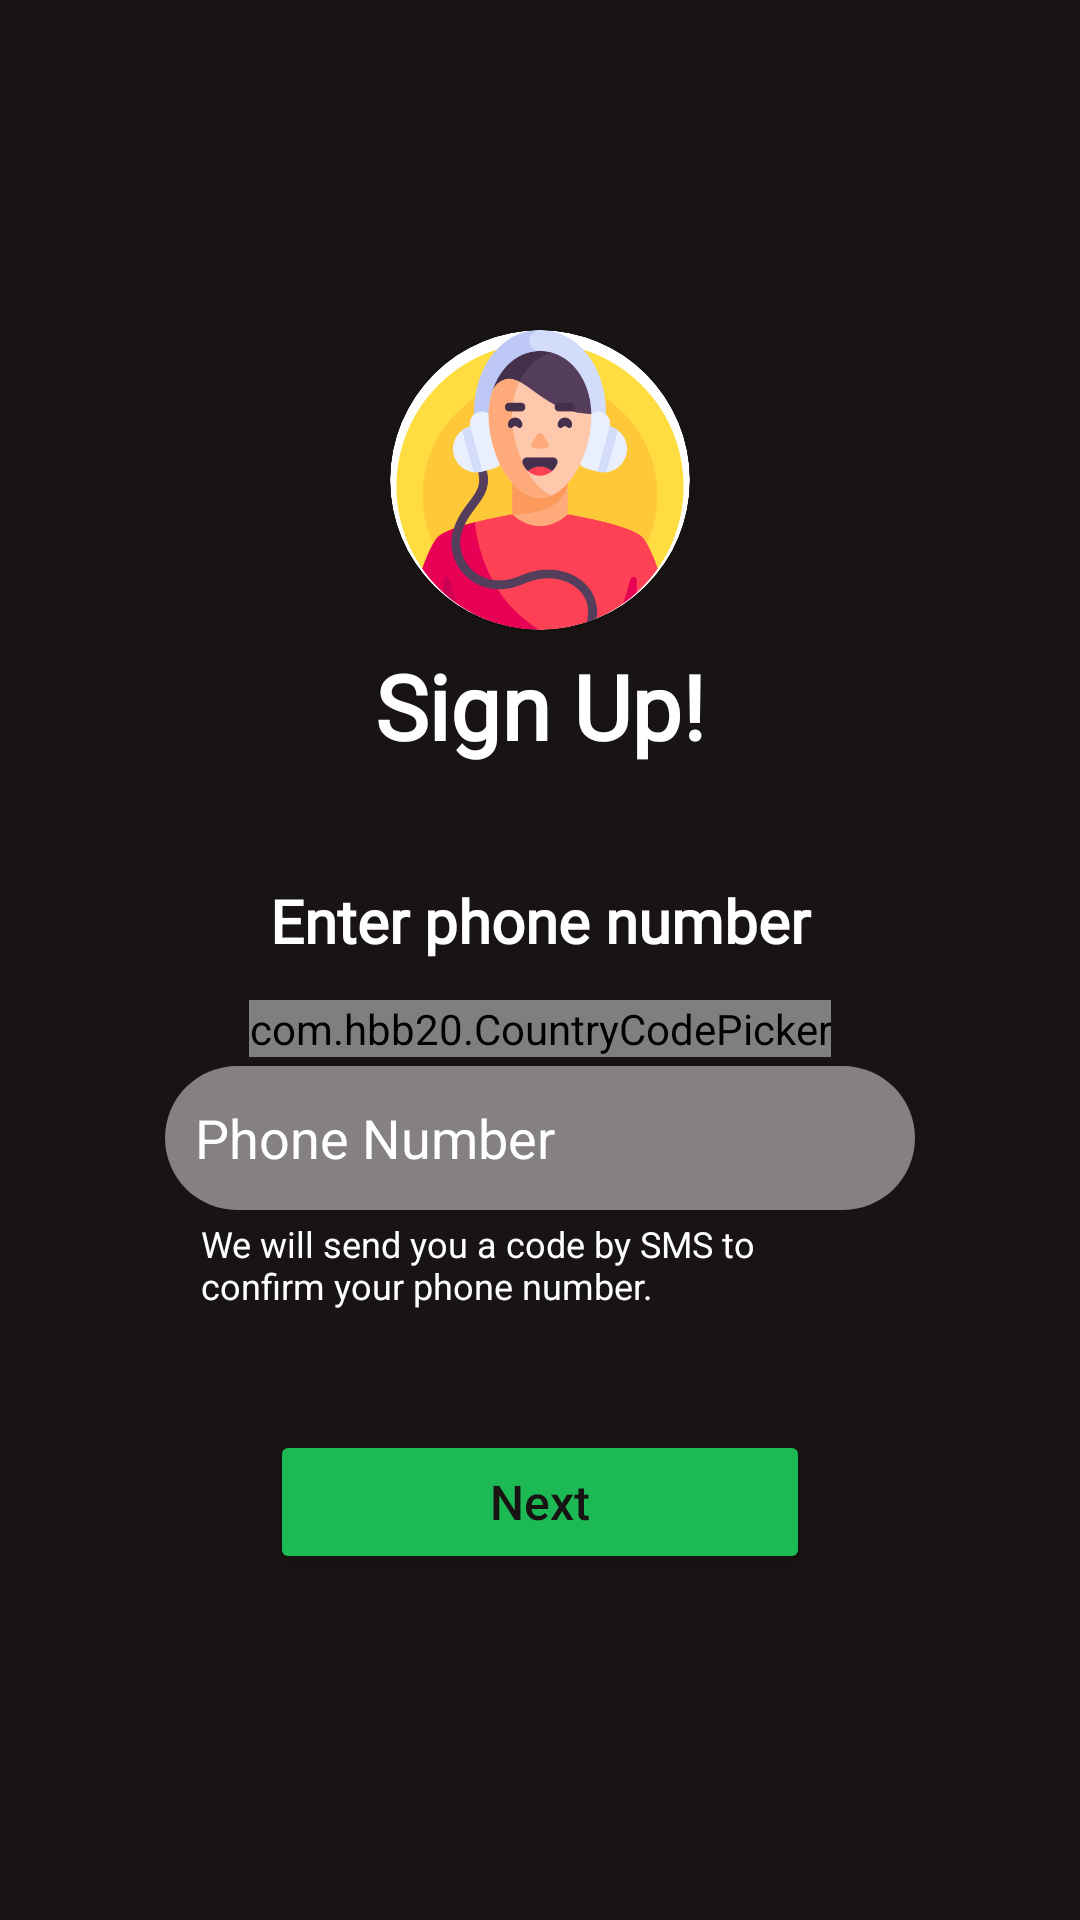

Named icons in this screenshot (1080x1920) and their bounding boxes, (x1, y1, x2, y2):
userbg: (390, 330, 690, 630)
